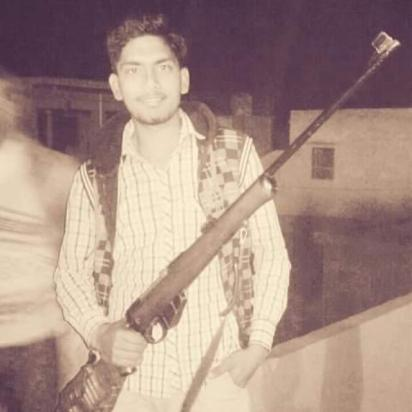Gun: (54, 27, 404, 411)
